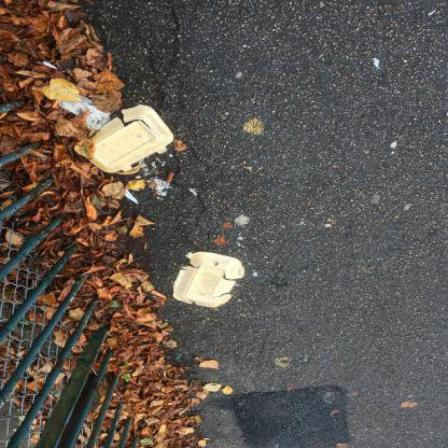Plastic container: (86, 105, 175, 173), (174, 252, 246, 308)
Unlabeled litter: (60, 96, 113, 132)
